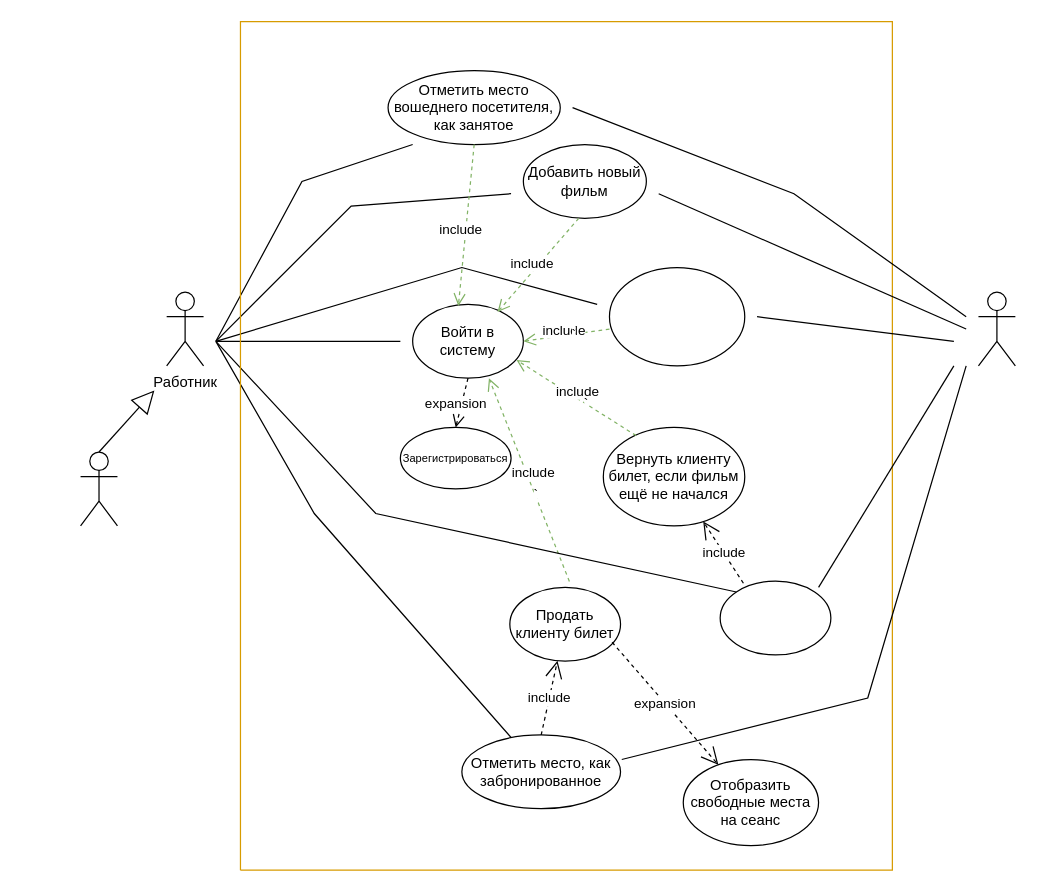
Image size: 1048x893. Some labels were removed from this diagram. Each missing label, with the centre of its shape:
Отредактировать данные о фильме: pixel 676 316
Система: pixel 996 328
Снять бронирование с места: pixel 775 617
Сотрудник-контроллёр: pixel 98 488
